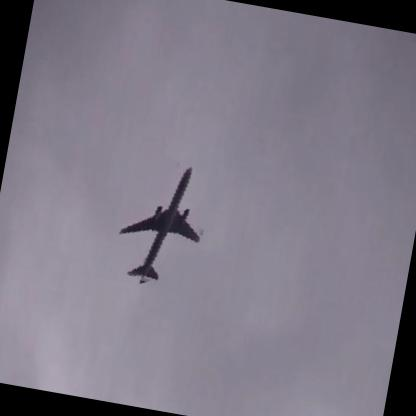plane: (109, 149, 223, 295)
